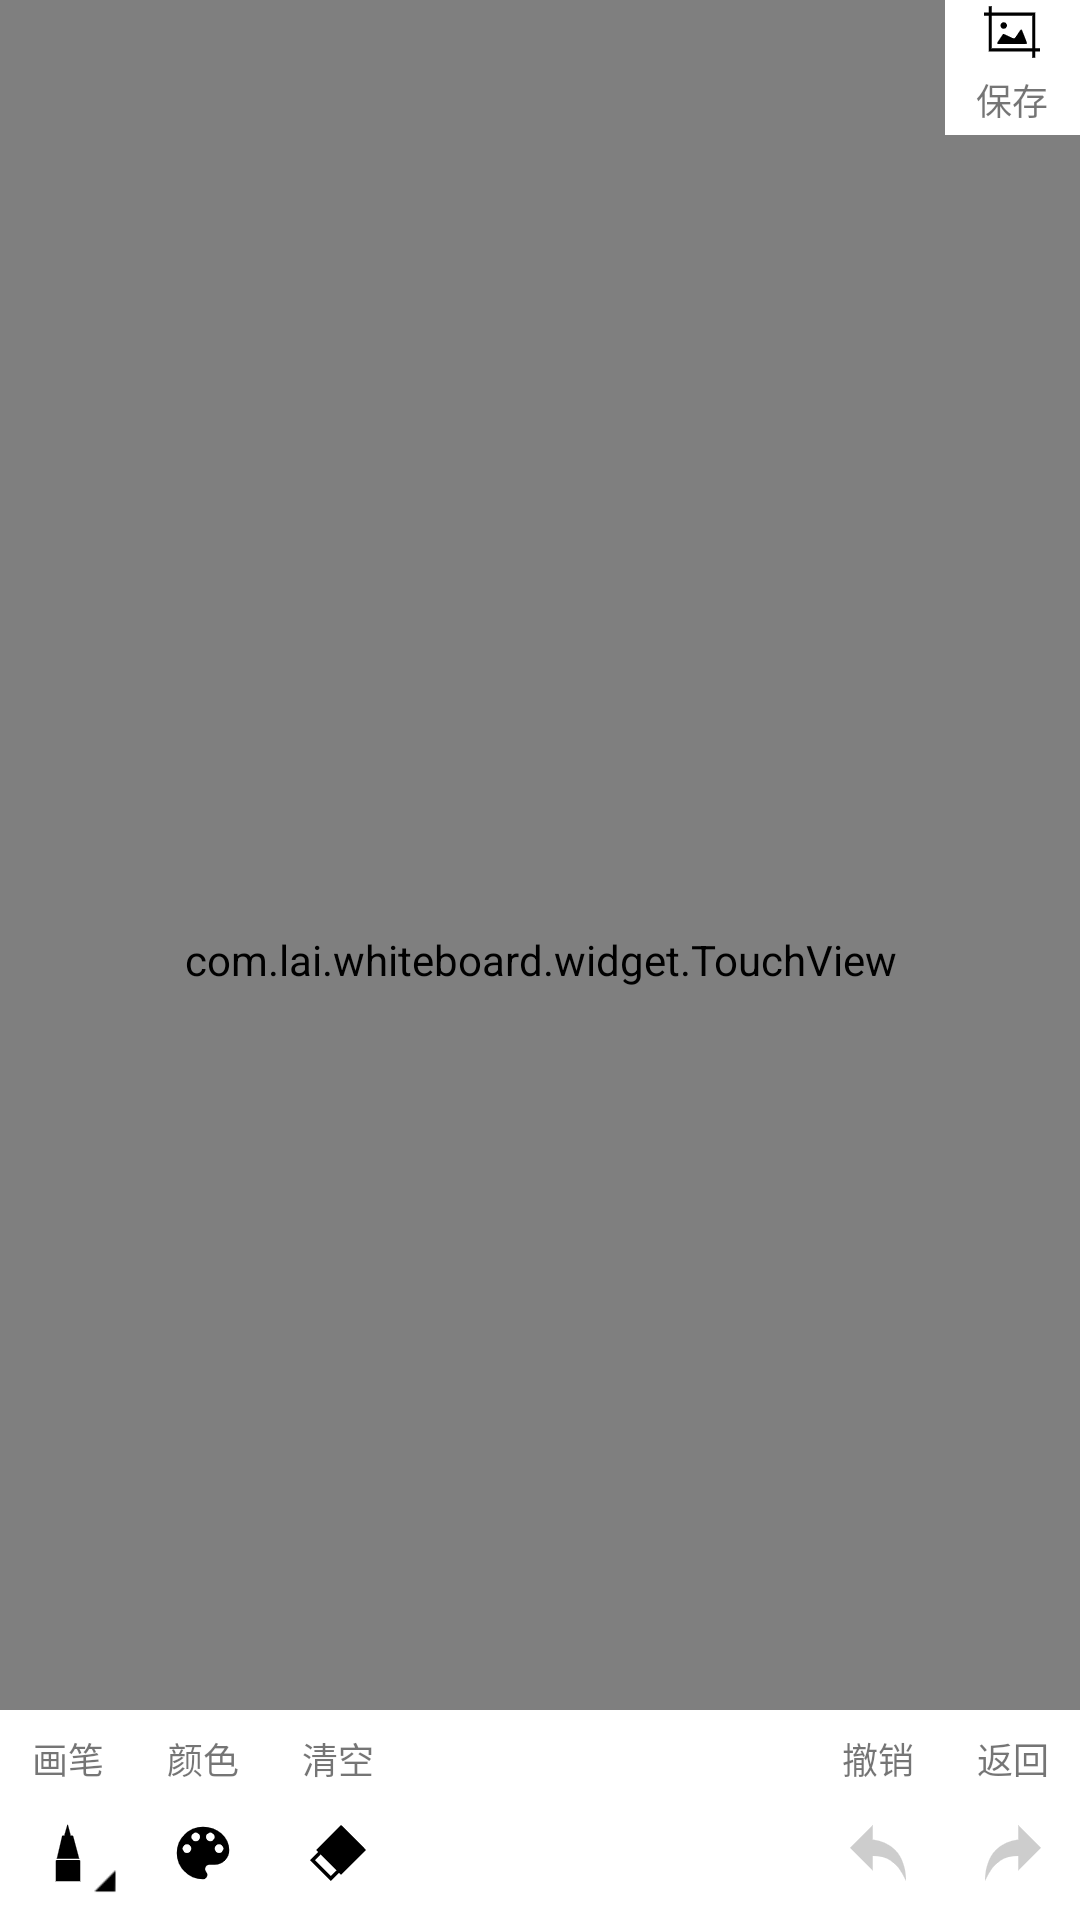

Icons on this 1080×1920 Android screen, each with its box as detection(x1, y1, x2, y2):
eraser all: detection(310, 1825, 366, 1881)
palettes: detection(176, 1826, 230, 1880)
redo no: detection(985, 1825, 1041, 1880)
undo no: detection(850, 1825, 906, 1880)
